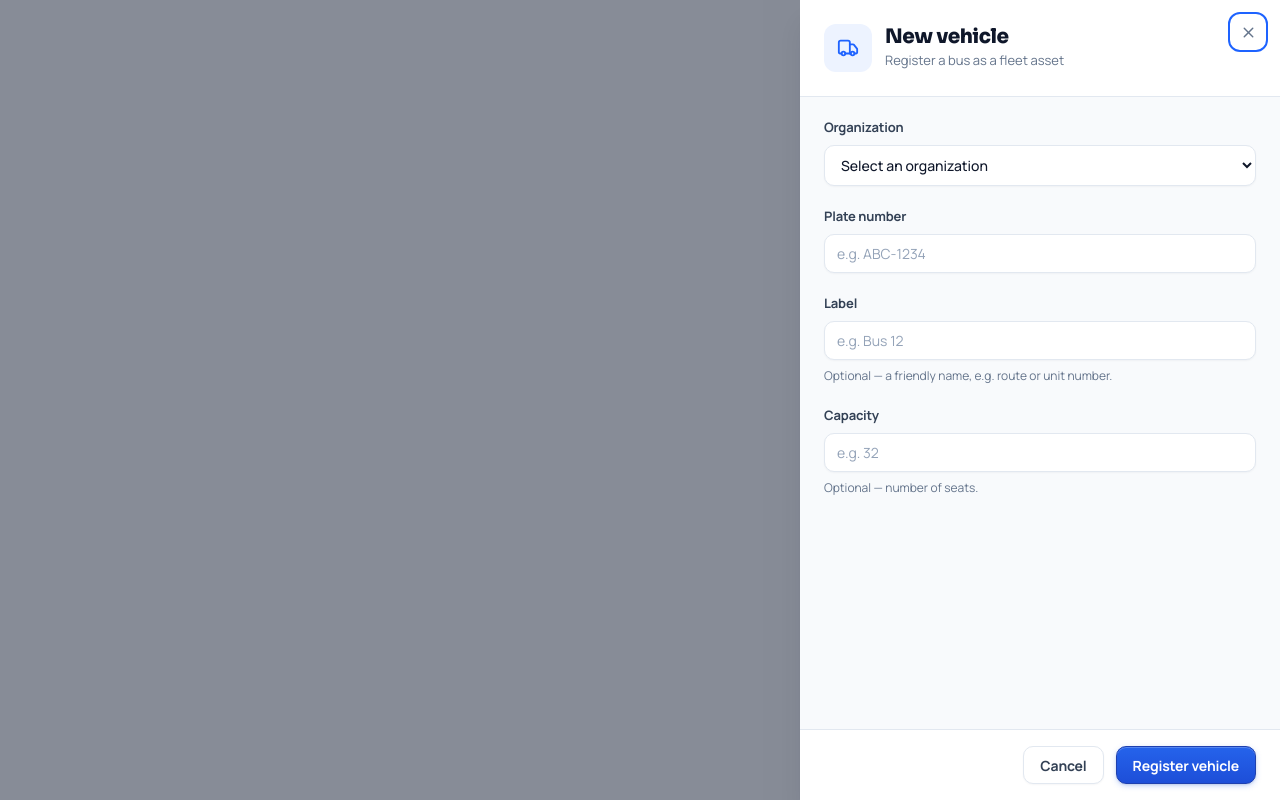
Test case: CreateVehicleForm › shows field-level validation errors and does not submit when required fields are missing
Expected: the dropdown labelled "Organization" is shown, [824, 145, 1256, 186]
Click the button "Register vehicle". click: (1186, 765)
box: [1116, 746, 1256, 784]
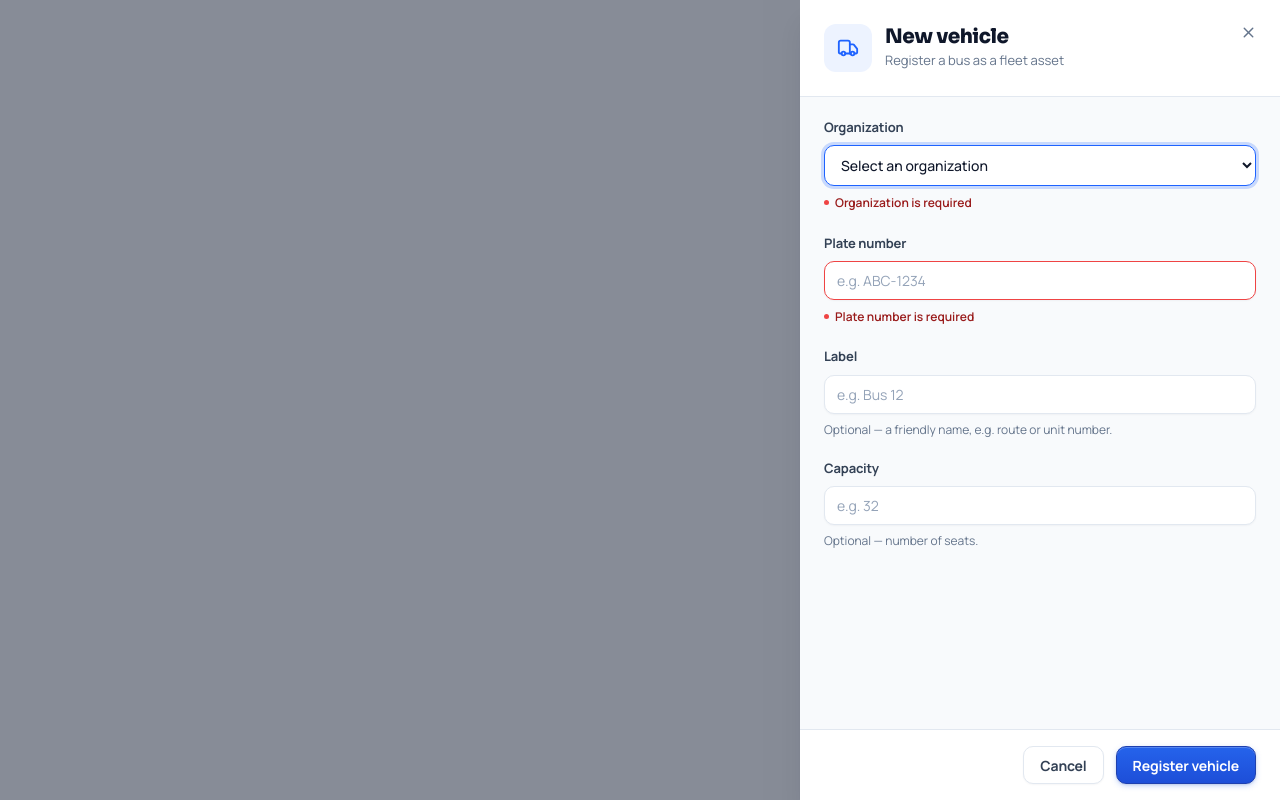
Expected: the text "Organization is required" is shown, [835, 194, 972, 211]
Expected: the text "Plate number is required" is shown, [835, 308, 974, 325]
